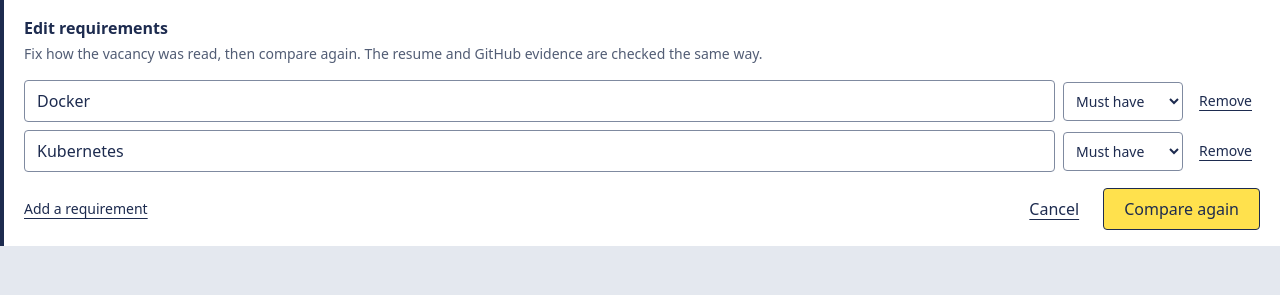
Test: editing the requirements › shows the server's messages when it rejects the list
Click the button "Compare again".
click(1182, 209)  # box [1103,188,1260,230]
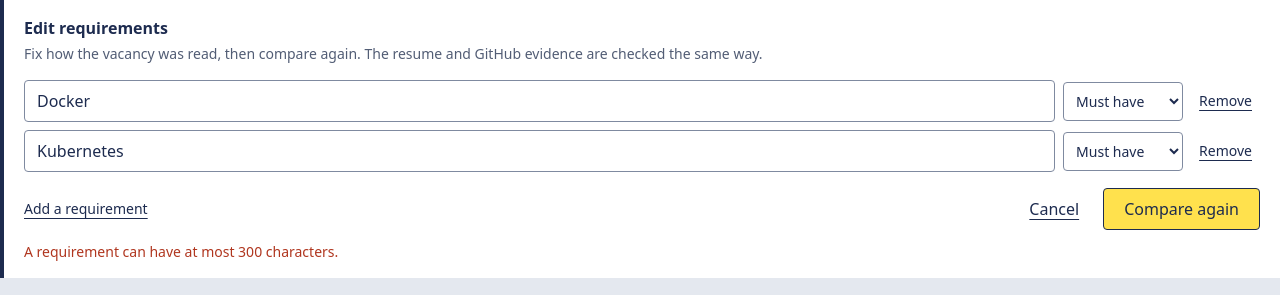
Expected: the list item "A requirement can have at most 300 characters." is shown, [24,242,338,261]
